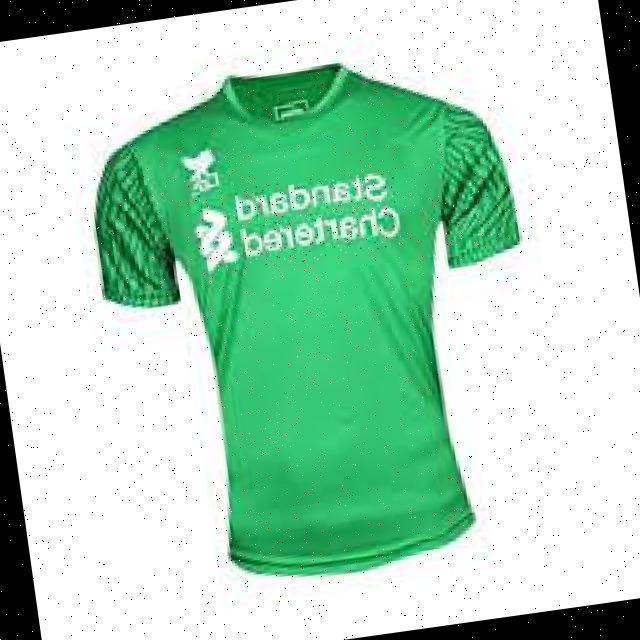Standard Chartered: (190, 166, 404, 276)
